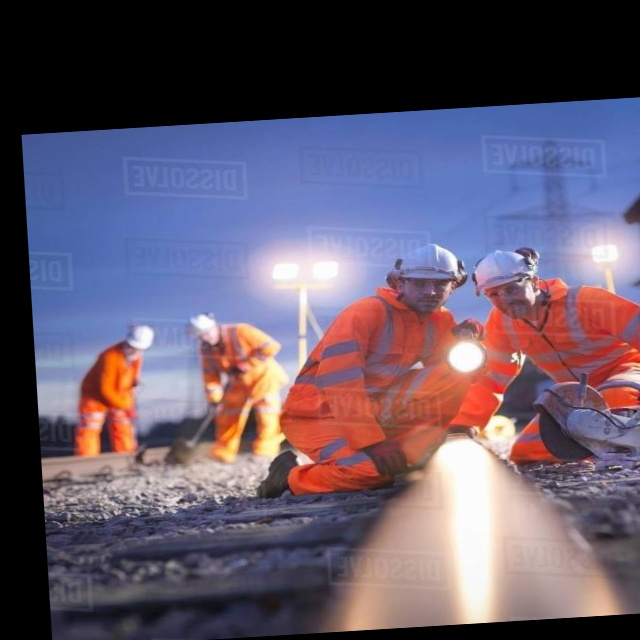Con_Casco: (386, 240, 464, 310), (471, 246, 544, 314)
